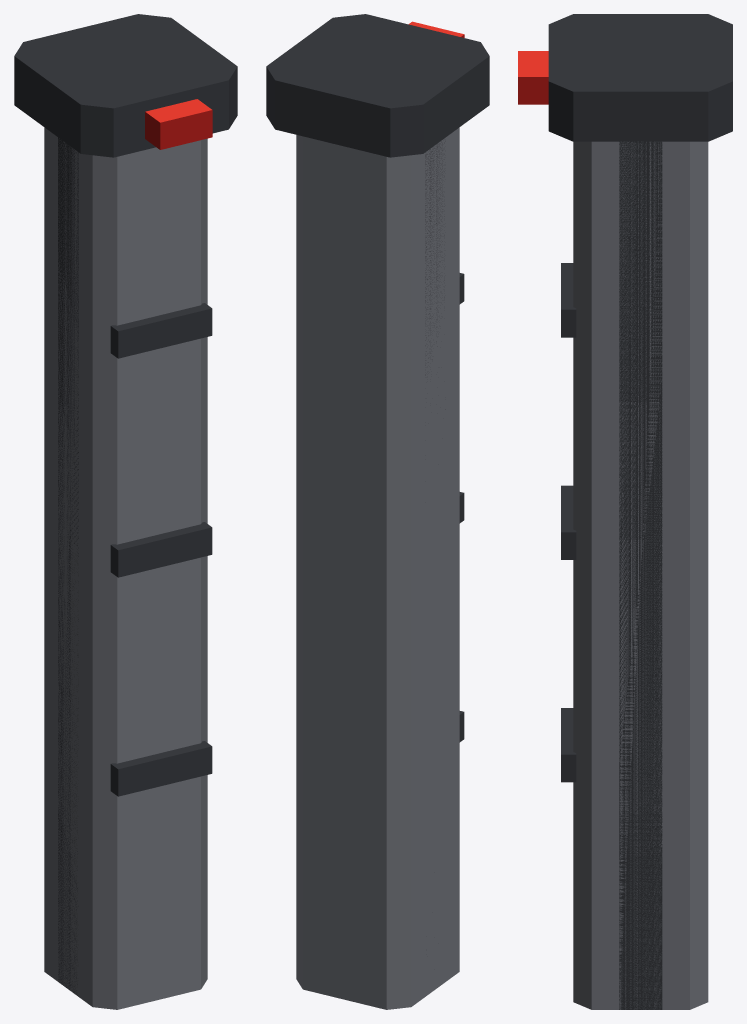
The model's file is pz_lift_mast.obj.
The picture shows the model from 3 angles, left to right: view 1: azimuth 30°, elevation 25°; view 2: azimuth 150°, elevation 25°; view 3: azimuth 270°, elevation 25°; orthographic projection.
Visible parts, largest first — view 1: pz_lift_mast; view 2: pz_lift_mast; view 3: pz_lift_mast.
Boxes of the visible parts, box(x1,y1,x2,y2) form: pz_lift_mast: box(14, 14, 237, 1009); pz_lift_mast: box(266, 14, 489, 1009); pz_lift_mast: box(518, 14, 732, 1009).
Size of the model in its own units: 0.3 by 1.67 by 0.35.
